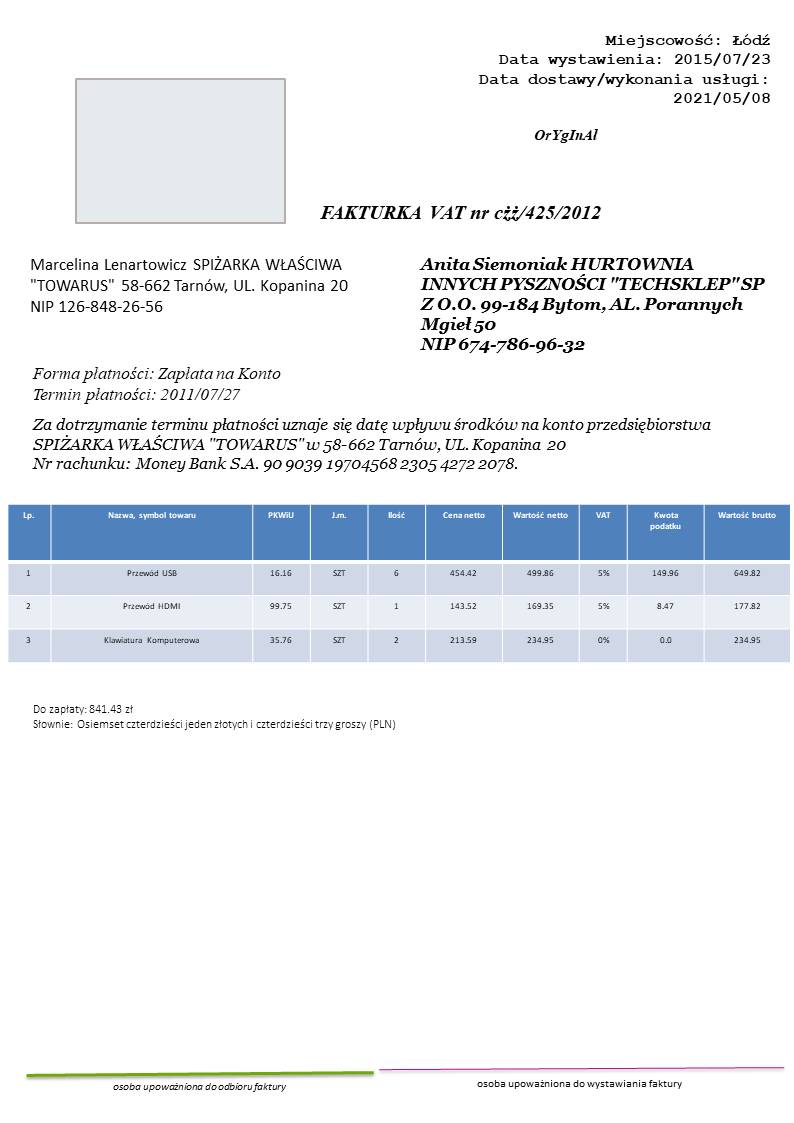Table: (5, 501, 792, 665)
TextBox: (28, 414, 717, 475), (416, 252, 768, 356), (473, 29, 774, 110), (27, 252, 350, 316), (29, 699, 398, 735), (28, 363, 285, 406), (317, 199, 603, 223), (473, 1075, 684, 1093), (111, 1078, 288, 1095), (530, 125, 602, 146)
